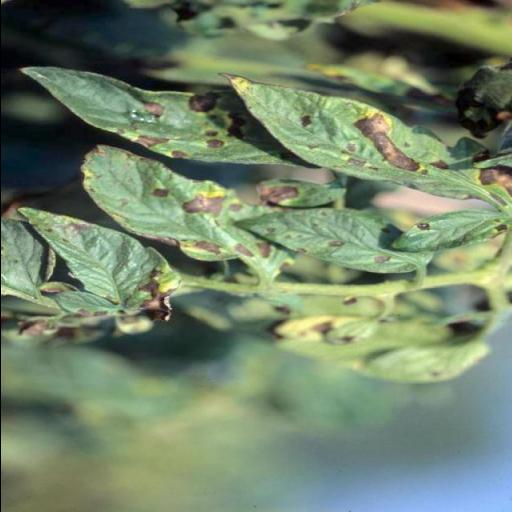disease_tomato: (231, 80, 487, 198), (78, 142, 250, 256), (20, 72, 246, 154), (242, 204, 444, 274)
